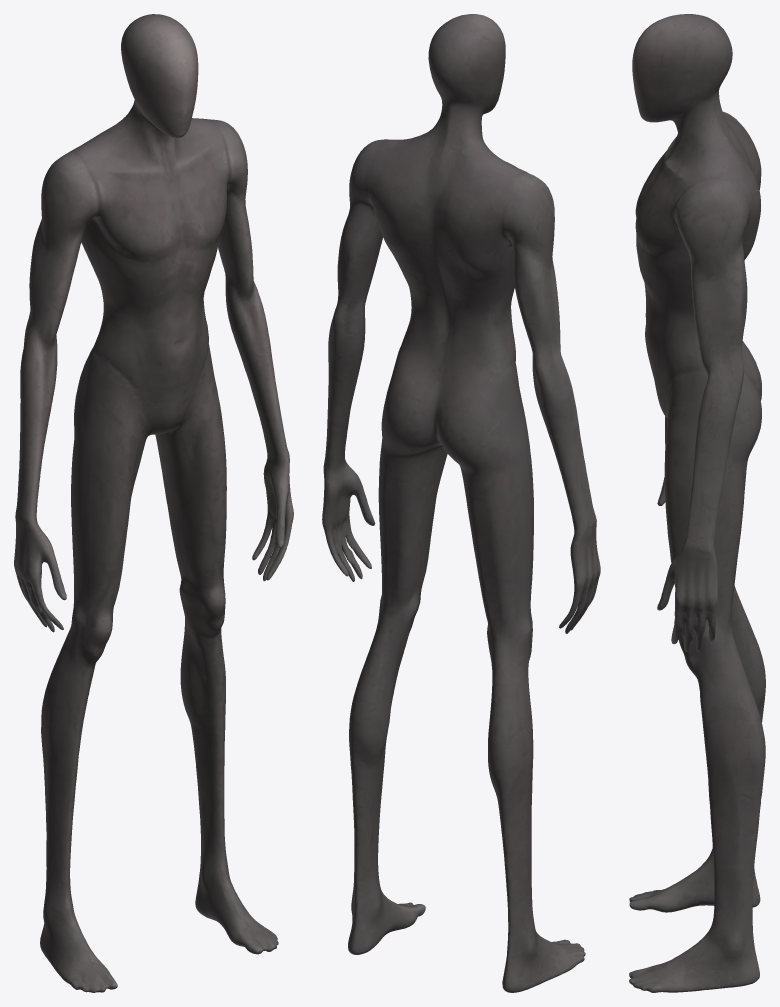
The model's file is ElQuieto.glb.
The picture shows the model from 3 angles, left to right: view 1: azimuth 30°, elevation 25°; view 2: azimuth 150°, elevation 25°; view 3: azimuth 270°, elevation 25°; orthographic projection.
Bounding box in the file's own units: 0.563 × 1.88 × 0.2519.
Materials: 1 (1 with a texture image).
